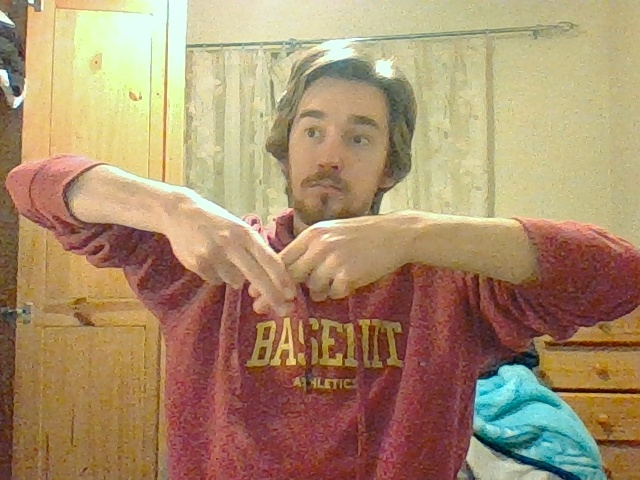father: (232, 212, 338, 316)
